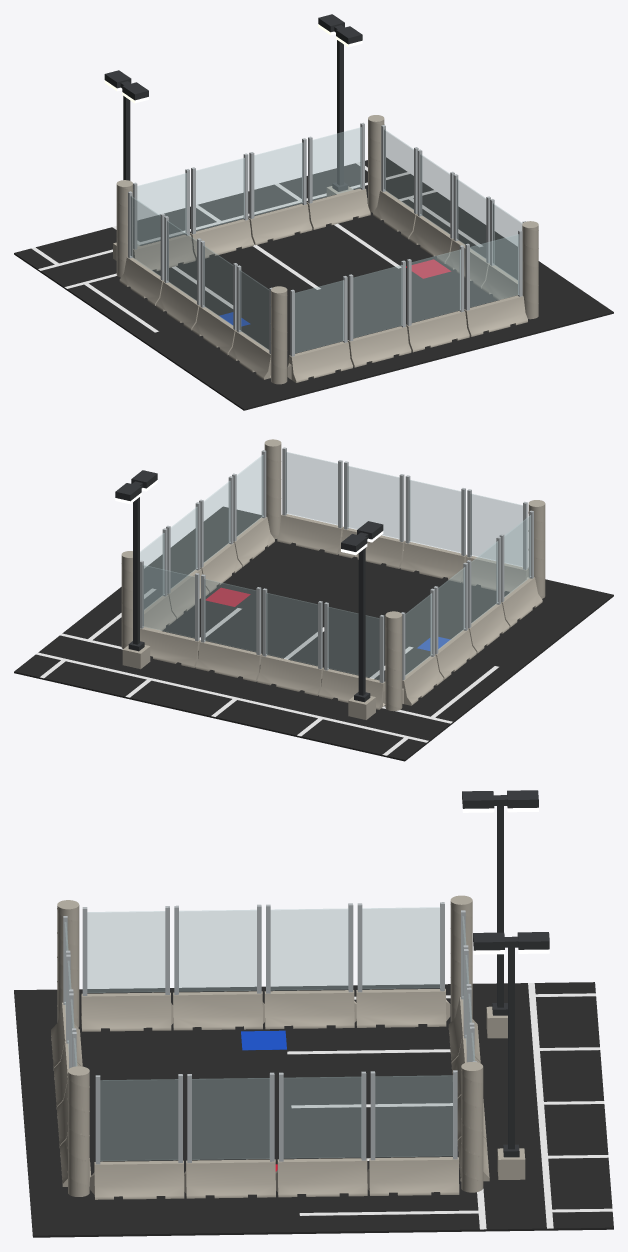
The model's file is parkir.glb.
3 views of the same model, one above another, from view 1: azimuth 30°, elevation 25°; view 2: azimuth 150°, elevation 25°; view 3: azimuth 270°, elevation 25° (orthographic). The views are drawn at different scales.
Visible parts, largest first — view 1: Object_10.001, Object_2, Object_4.001, Object_3, Object_8.001, Object_7; view 2: Object_10.001, Object_2, Object_4.001, Object_3, Object_8.001, Object_7, Object_5; view 3: Object_10.001, Object_2, Object_4.001, Object_3, Object_8.001, Object_7, Object_9, Object_6.001.
Part boxes in pixels (left/top/right/bottom): Object_10.001: left=14, top=157, right=613, bottom=410; Object_2: left=130, top=127, right=522, bottom=353; Object_4.001: left=113, top=115, right=538, bottom=384; Object_3: left=128, top=122, right=525, bottom=356; Object_8.001: left=104, top=14, right=362, bottom=191; Object_7: left=31, top=162, right=482, bottom=332; Object_10.001: left=14, top=506, right=613, bottom=761; Object_2: left=140, top=452, right=530, bottom=679; Object_4.001: left=121, top=439, right=545, bottom=719; Object_3: left=140, top=447, right=533, bottom=682; Object_8.001: left=115, top=470, right=383, bottom=702; Object_7: left=36, top=588, right=498, bottom=755; Object_5: left=206, top=587, right=250, bottom=606; Object_10.001: left=14, top=982, right=613, bottom=1237; Object_2: left=65, top=907, right=474, bottom=1160; Object_4.001: left=51, top=895, right=525, bottom=1199; Object_3: left=63, top=902, right=476, bottom=1164; Object_8.001: left=462, top=790, right=549, bottom=1157; Object_7: left=287, top=983, right=612, bottom=1229; Object_9: left=241, top=1030, right=286, bottom=1050; Object_6.001: left=462, top=800, right=549, bottom=954.
Size of the model in its own units: 5.06 by 2.22 by 5.06.
